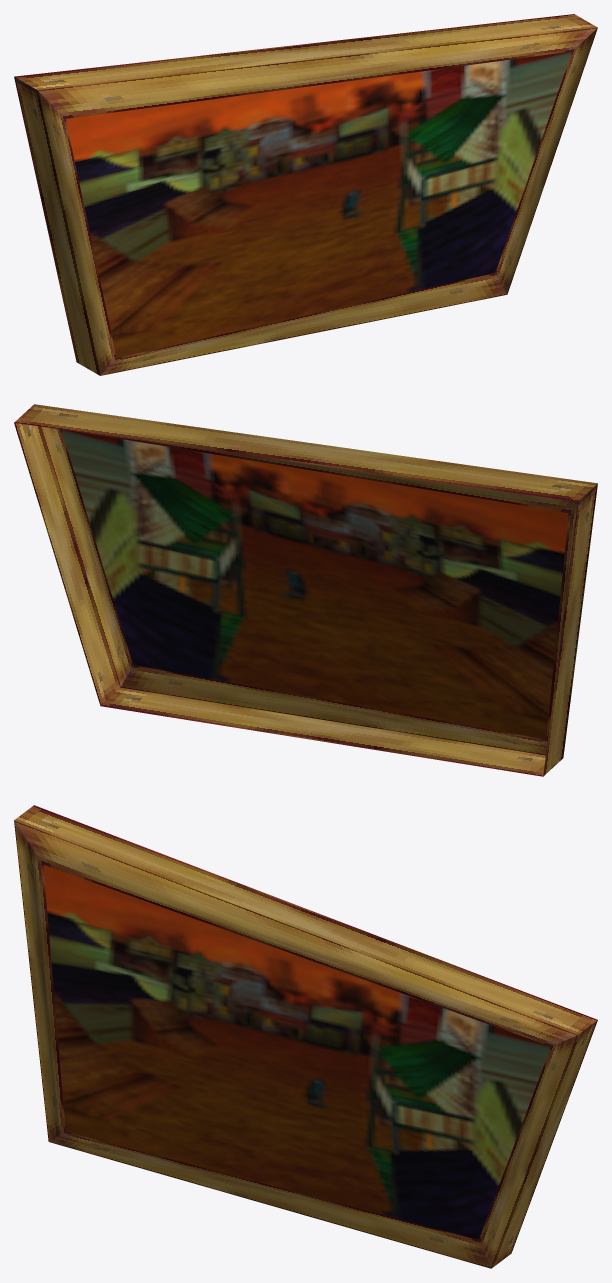
Rendered from Desert_GhostTown_Sign.FBX.
The picture shows the model from 3 angles, top to bottom: view 1: azimuth 30°, elevation 25°; view 2: azimuth 150°, elevation 25°; view 3: azimuth 330°, elevation 25°; orthographic projection. The views are drawn at different scales.
Parts seen in each view (by area): view 1: sign; view 2: sign; view 3: sign.
Boxes of the visible parts, x1,y1,x2,y2 form: sign: [14, 14, 597, 375]; sign: [14, 404, 597, 776]; sign: [14, 805, 597, 1268].
Bounding box in the file's own units: 349 × 190 × 39.45.
